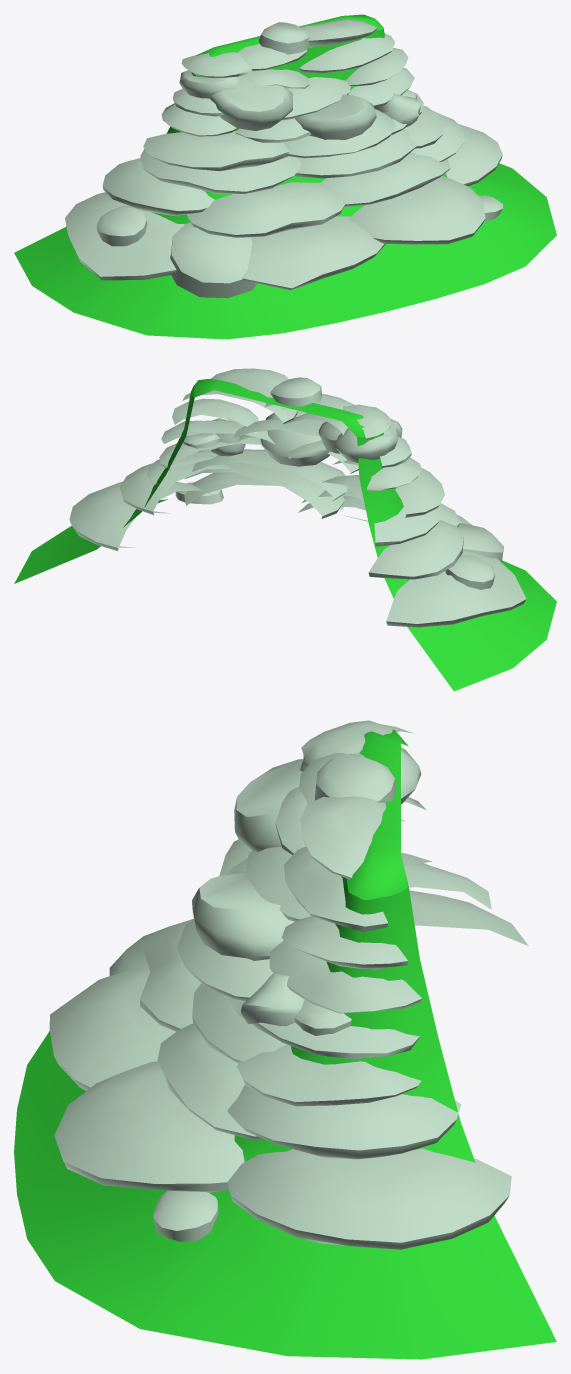
The model's file is Biome_1_Water_Edge_4.glb.
3 views of the same model, one above another, from view 1: azimuth 30°, elevation 25°; view 2: azimuth 150°, elevation 25°; view 3: azimuth 270°, elevation 25° (orthographic). The views are drawn at different scales.
Visible parts, largest first — view 1: Biome_1_Water_Edge_4; view 2: Biome_1_Water_Edge_4; view 3: Biome_1_Water_Edge_4.
Part boxes in pixels (<box>): Biome_1_Water_Edge_4: <box>14,14,556,339</box>; Biome_1_Water_Edge_4: <box>14,368,556,691</box>; Biome_1_Water_Edge_4: <box>14,720,556,1359</box>.
Size of the model in its own units: 3.11 by 1.33 by 1.72.
